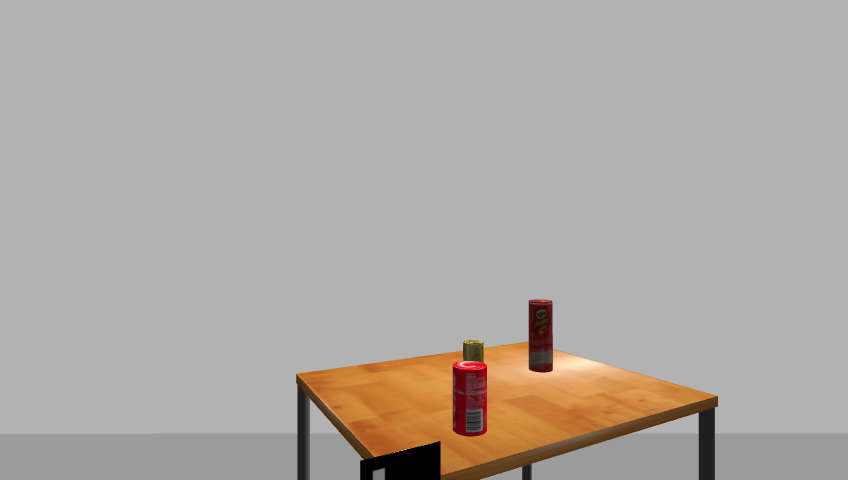aruco marker: (355, 441, 447, 480)
biscuits pack: (461, 339, 485, 366)
coke can: (451, 360, 491, 437)
dinner table: (285, 347, 726, 480)
pringles can: (526, 299, 556, 375)
